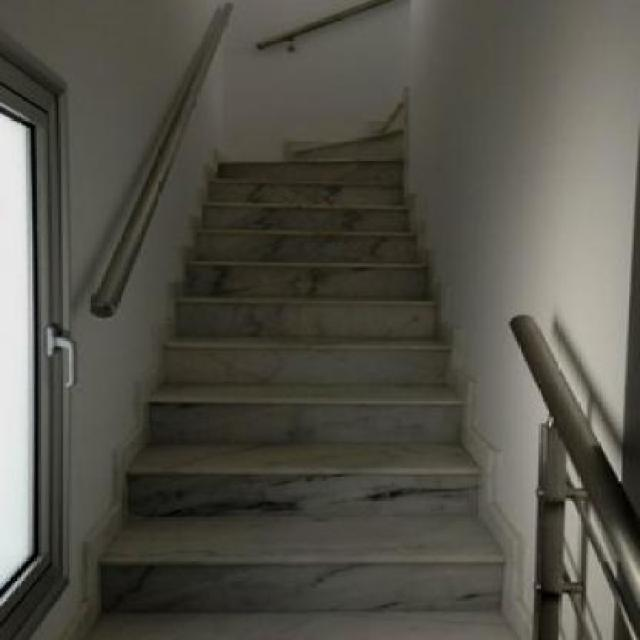stair: (77, 0, 556, 638)
